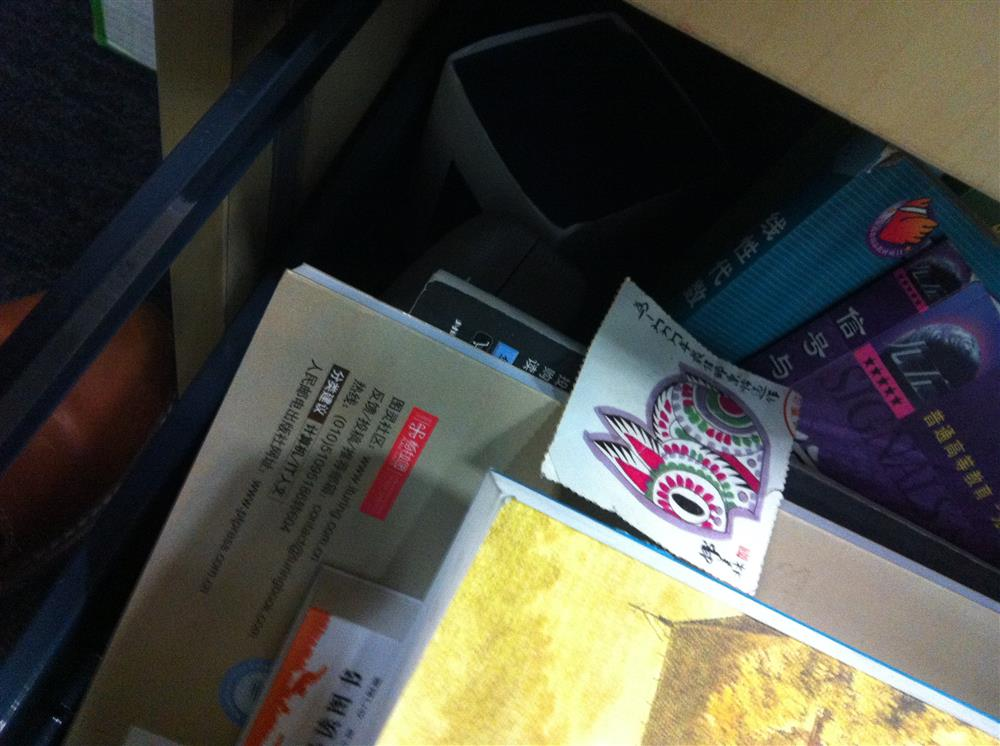stamp: (541, 280, 802, 595)
